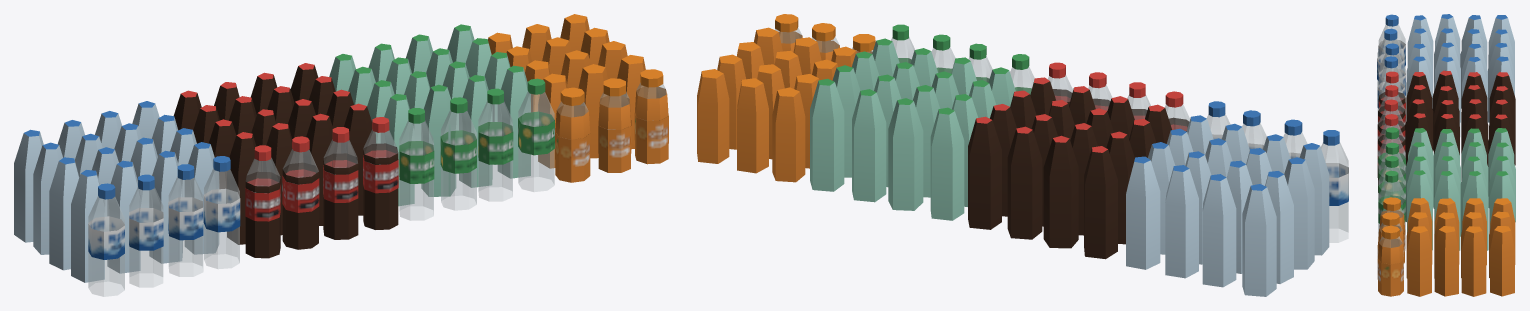
Rendered from SC_Prod_Row_Bottles_Mixed.gltf.
The picture shows the model from 3 angles, left to right: view 1: azimuth 30°, elevation 25°; view 2: azimuth 150°, elevation 25°; view 3: azimuth 270°, elevation 25°; orthographic projection. The views are drawn at different scales.
Visible parts, largest first — view 1: SC_Prod_Row_Bottles_Mixed; view 2: SC_Prod_Row_Bottles_Mixed; view 3: SC_Prod_Row_Bottles_Mixed.
Part boxes in pixels (x1,y1,x2,y2): SC_Prod_Row_Bottles_Mixed: (14, 14, 668, 296); SC_Prod_Row_Bottles_Mixed: (697, 14, 1348, 296); SC_Prod_Row_Bottles_Mixed: (1377, 14, 1515, 296).
Bounding box in the file's own units: 1.18 × 0.199 × 0.3291.
Materials: 3 (3 with a texture image).
